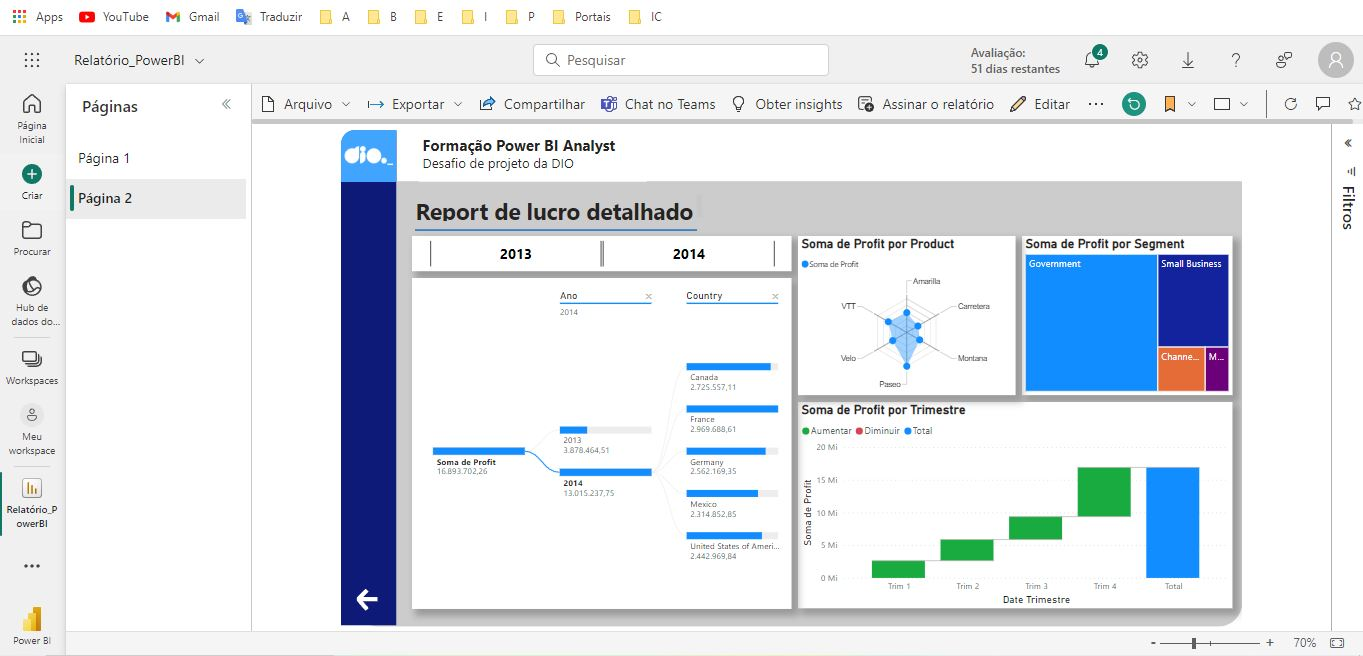

The dashboard page shown, as its layout file describes it:
{"tool":"powerbi","page":{"name":"Página 2","canvas":[1280,720],"ordinal":1},"visuals":[{"type":"shape","box":[18.7,10.1,1261.8,704.2],"z":0},{"type":"shape","box":[0,8.4,79,703.8],"z":1000},{"type":"shape","box":[0,8.4,79,73.9],"z":2000},{"type":"image","title":"DIO","box":[0,21.8,79,47],"z":3000},{"type":"shape","box":[79,8.6,1201.4,73.3],"z":4000},{"type":"textbox","box":[110.7,10.1,323.4,71.9],"z":5000},{"type":"textbox","box":[100.6,100.6,416.8,41.7],"z":6000},{"type":"actionButton","box":[18.8,656.2,49.6,39.3],"z":7000},{"type":"shape","box":[105,142.2,400.6,17.2],"z":8000},{"type":"slicer","fields":{"Values":["financials.Date.Variation.Hierarquia de datas.Ano"]},"box":[100.6,159.5,538.9,50.3],"z":9000},{"type":"treemap","fields":{"Values":["Sum(financials.Profit)"],"Group":["financials.Segment"]},"box":[967.2,159.5,298.9,225.6],"z":10000},{"type":"waterfallChart","fields":{"Y":["Sum(financials.Profit)"],"Category":["financials.Date.Variation.Hierarquia de datas.Trimestre"]},"box":[649.6,395.2,616.5,293.2],"z":11000},{"type":"decompositionTreeVisual","fields":{"Analyze":["Sum(financials.Profit)"],"ExplainBy":["financials.Date.Variation.Hierarquia de datas.Ano","financials.Country"]},"box":[100.6,218.4,538.9,469.9],"z":11001},{"type":"RadarChart1446119667547","fields":{"Y":["Sum(financials.Profit)"],"Category":["financials.Product"]},"box":[649.6,159.5,309,225.6],"z":11002}]}

Visuals, with their boxes on the page's 1280x720 design canvas (x1, y1, x2, y2). These are canvas units, not pixel positions in the 1363x656 screenshot, which may show the page scaled, cropped or inside an application window:
shape: region(19, 10, 1280, 714)
shape: region(0, 8, 79, 712)
shape: region(0, 8, 79, 82)
"DIO" image: region(0, 22, 79, 69)
shape: region(79, 9, 1280, 82)
textbox: region(111, 10, 434, 82)
textbox: region(101, 101, 517, 142)
actionButton: region(19, 656, 68, 696)
shape: region(105, 142, 506, 159)
slicer - financials.Date.Variation.Hierarquia de datas.Ano: region(101, 160, 640, 210)
treemap - Sum(financials.Profit) x financials.Segment: region(967, 160, 1266, 385)
waterfallChart - Sum(financials.Profit) x financials.Date.Variation.Hierarquia de datas.Trimestre: region(650, 395, 1266, 688)
decompositionTreeVisual - Sum(financials.Profit) x financials.Date.Variation.Hierarquia de datas.Ano: region(101, 218, 640, 688)
RadarChart1446119667547 - Sum(financials.Profit) x financials.Product: region(650, 160, 959, 385)
